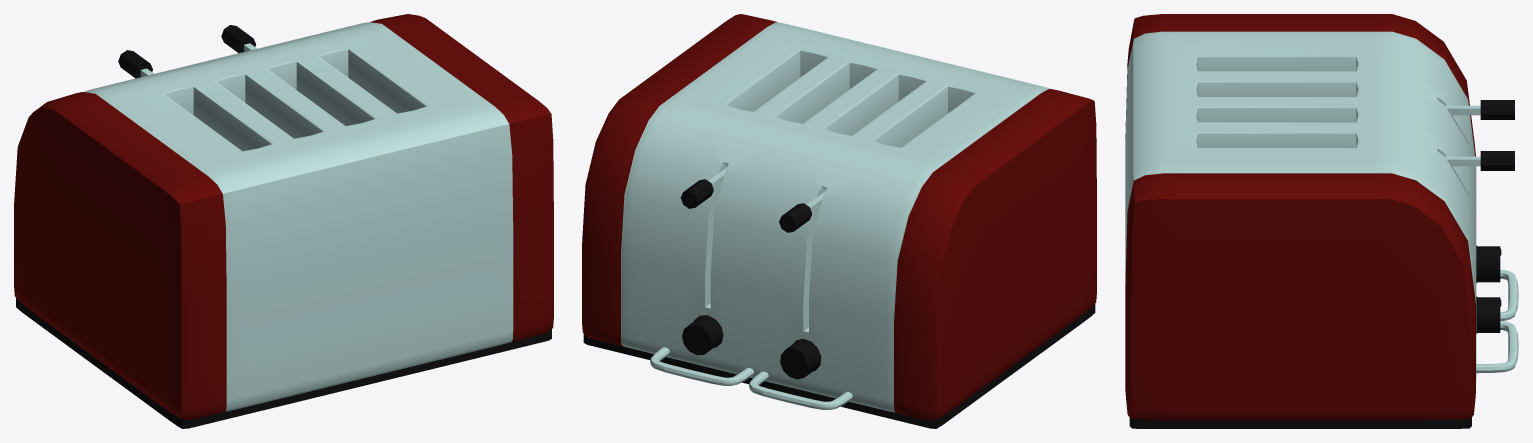
The model's file is Toaster3.fbx.
3 renders of one model, left to right at view 1: azimuth 30°, elevation 25°; view 2: azimuth 150°, elevation 25°; view 3: azimuth 270°, elevation 25°, orthographic. The views are drawn at different scales.
Parts seen in each view (by area): view 1: Toaster3, ToasterLever3B, ToasterLever3A; view 2: Toaster3, ToasterKnob3A, ToasterKnob3B, ToasterLever3A, ToasterLever3B; view 3: Toaster3, ToasterKnob3A, ToasterLever3B, ToasterLever3A, ToasterKnob3B.
Boxes of the visible parts, <box> form: Toaster3: <box>14,14,553,428</box>; ToasterLever3B: <box>221,25,256,53</box>; ToasterLever3A: <box>118,50,153,78</box>; Toaster3: <box>582,14,1096,428</box>; ToasterKnob3A: <box>650,315,852,409</box>; ToasterKnob3B: <box>780,339,821,379</box>; ToasterLever3A: <box>779,192,824,232</box>; ToasterLever3B: <box>680,167,726,208</box>; Toaster3: <box>1125,14,1476,428</box>; ToasterKnob3A: <box>1476,269,1518,373</box>; ToasterLever3B: <box>1445,151,1514,170</box>; ToasterLever3A: <box>1445,100,1514,119</box>; ToasterKnob3B: <box>1476,245,1501,282</box>.
Size of the model in its own units: 238 by 146 by 212.
